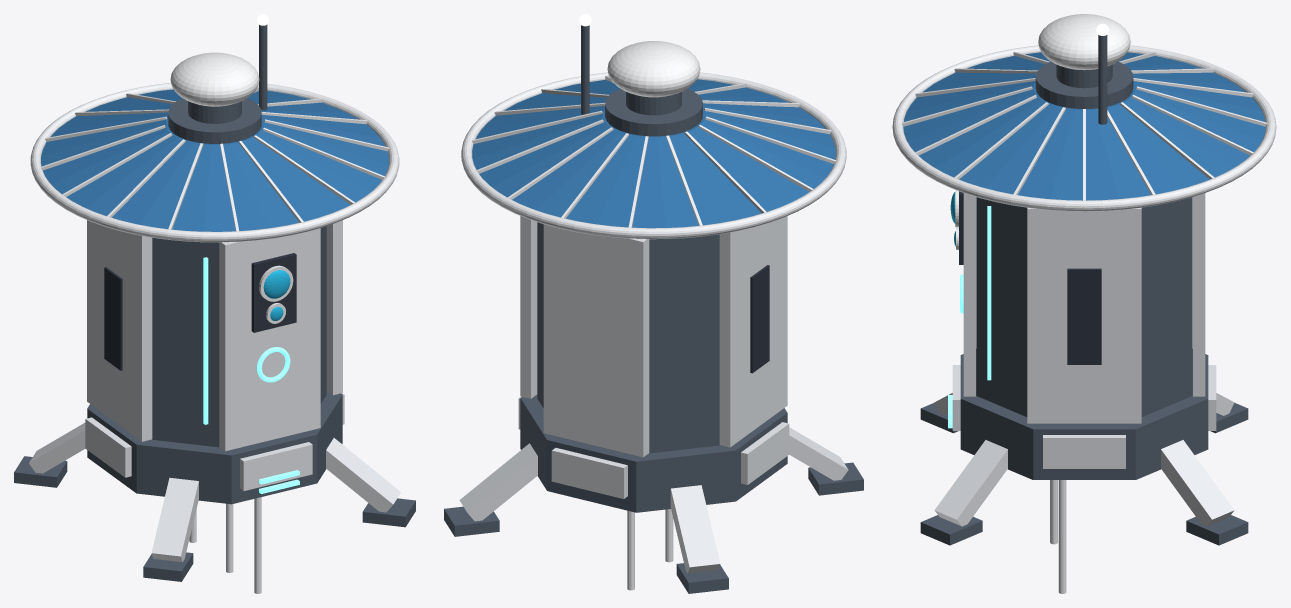
Rendered from TERRA_Device_Isolated.glb.
3 renders of one model, left to right at view 1: azimuth 30°, elevation 25°; view 2: azimuth 150°, elevation 25°; view 3: azimuth 270°, elevation 25°, orthographic. The views are drawn at different scales.
Parts seen in each view (by area): view 1: SM_TERRA_SolarCanopy_Cone, SM_TERRA_ArmorPlate_North, SM_TERRA_Hull_OctCore, SM_TERRA_ArmorPlate_West, SM_TERRA_Base_OctCollar, SM_TERRA_SolarRim_Torus, SM_TERRA_GNSS_Dome, SM_TERRA_ArmorPlate_East, SM_TERRA_OutriggerLeg_SW, SM_TERRA_GNSS_MastBase, SM_TERRA_OutriggerLeg_SE, SM_TERRA_Base_Fender_04 (+19 smaller); view 2: SM_TERRA_SolarCanopy_Cone, SM_TERRA_ArmorPlate_South, SM_TERRA_Hull_OctCore, SM_TERRA_ArmorPlate_West, SM_TERRA_Base_OctCollar, SM_TERRA_SolarRim_Torus, SM_TERRA_GNSS_Dome, SM_TERRA_ArmorPlate_East, SM_TERRA_OutriggerLeg_NW, SM_TERRA_GNSS_MastBase, SM_TERRA_Base_Fender_02, SM_TERRA_OutriggerLeg_NE (+15 smaller); view 3: SM_TERRA_SolarCanopy_Cone, SM_TERRA_ArmorPlate_East, SM_TERRA_Hull_OctCore, SM_TERRA_Base_OctCollar, SM_TERRA_SolarRim_Torus, SM_TERRA_GNSS_Dome, SM_TERRA_SensorChamber_East, SM_TERRA_OutriggerLeg_NE, SM_TERRA_OutriggerLeg_SE, SM_TERRA_Base_Fender_01, SM_TERRA_ArmorPlate_North, SM_TERRA_ArmorPlate_South (+20 smaller).
Part boxes in pixels (x1,y1,x2,y2): SM_TERRA_SolarCanopy_Cone: (41,89,388,231); SM_TERRA_ArmorPlate_North: (219,228,320,451); SM_TERRA_Hull_OctCore: (152,226,326,447); SM_TERRA_ArmorPlate_West: (87,220,152,441); SM_TERRA_Base_OctCollar: (87,391,342,504); SM_TERRA_SolarRim_Torus: (30,82,399,242); SM_TERRA_GNSS_Dome: (170,52,259,106); SM_TERRA_ArmorPlate_East: (326,220,342,395); SM_TERRA_OutriggerLeg_SW: (151,477,198,562); SM_TERRA_GNSS_MastBase: (168,98,261,143); SM_TERRA_OutriggerLeg_SE: (326,438,400,512); SM_TERRA_Base_Fender_04: (240,442,312,490); SM_TERRA_SolarCanopy_Cone: (472,79,835,228); SM_TERRA_ArmorPlate_South: (543,224,649,457); SM_TERRA_Hull_OctCore: (537,222,719,453); SM_TERRA_ArmorPlate_West: (719,216,787,447); SM_TERRA_Base_OctCollar: (520,394,787,512); SM_TERRA_SolarRim_Torus: (461,72,846,239); SM_TERRA_GNSS_Dome: (607,41,700,97); SM_TERRA_ArmorPlate_East: (520,216,537,398); SM_TERRA_OutriggerLeg_NW: (670,485,720,573); SM_TERRA_GNSS_MastBase: (605,88,702,136); SM_TERRA_Base_Fender_02: (551,448,627,498); SM_TERRA_OutriggerLeg_NE: (459,443,537,521); SM_TERRA_SolarCanopy_Cone: (903,52,1265,200); SM_TERRA_ArmorPlate_East: (1027,207,1141,423); SM_TERRA_Hull_OctCore: (976,197,1192,416); SM_TERRA_Base_OctCollar: (960,349,1208,479); SM_TERRA_SolarRim_Torus: (892,45,1276,211); SM_TERRA_GNSS_Dome: (1038,14,1130,70); SM_TERRA_SensorChamber_East: (1067,268,1101,364); SM_TERRA_OutriggerLeg_NE: (1161,440,1234,526); SM_TERRA_OutriggerLeg_SE: (934,440,1007,526); SM_TERRA_Base_Fender_01: (1043,435,1125,468); SM_TERRA_ArmorPlate_North: (963,193,975,396); SM_TERRA_ArmorPlate_South: (1193,193,1205,396).
Size of the model in its own units: 3.15 by 5.25 by 3.15.
